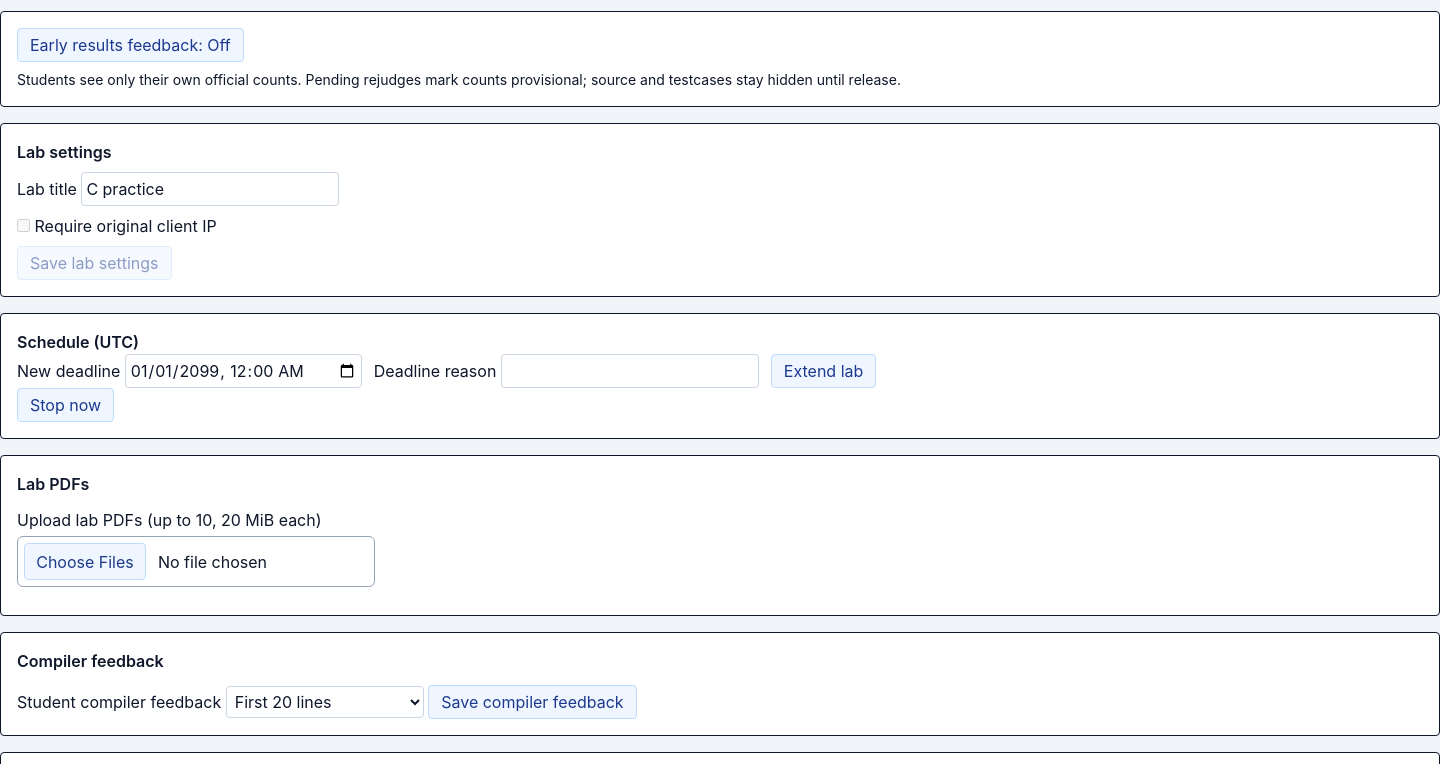
Test: Stop now confirms and sends the current lab version and audit reason
The image size is (1440, 764).
(page scrolled)
Step 1. Click the button "Stop now" → (66, 405), box x1=17 y1=388 x2=114 y2=422
(page scrolled)
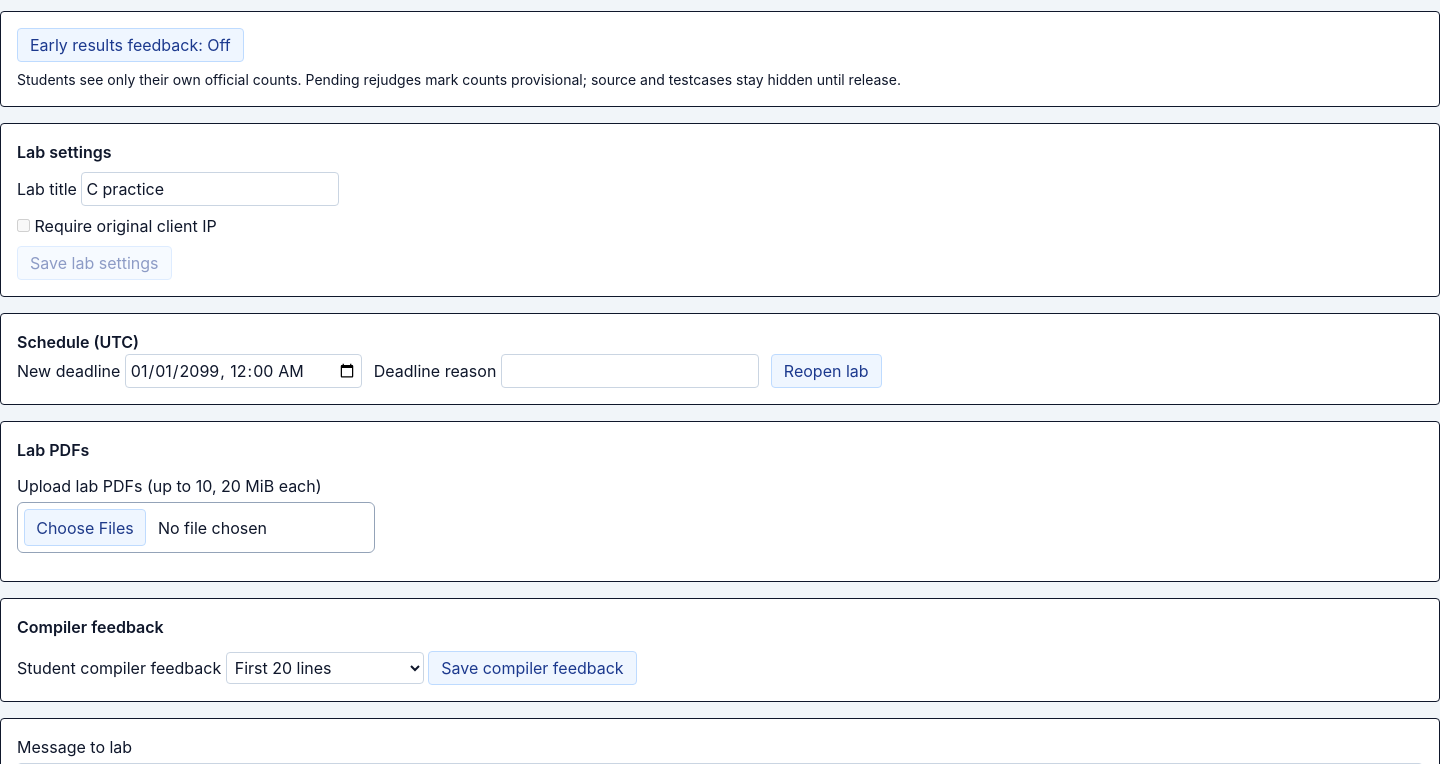
Expected: the button "Stop now" is gone
